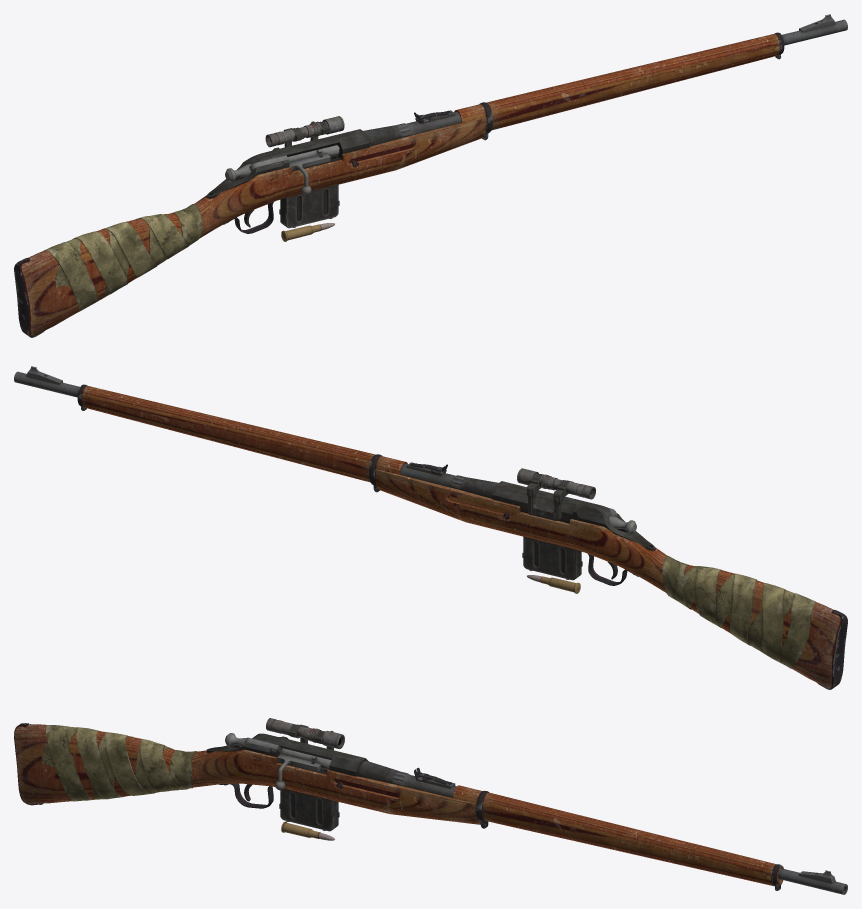
The model's file is bolt_action_rifle_7_62.glb.
3 renders of one model, top to bottom at view 1: azimuth 30°, elevation 25°; view 2: azimuth 150°, elevation 25°; view 3: azimuth 330°, elevation 25°, orthographic.
Visible parts, largest first — view 1: bolt_action_rifle_7_62, bolt_action_rifle_7_62_wrap, bolt_action_rifle_7_62_scope, bolt_action_rifle_7_62_bolt_a; view 2: bolt_action_rifle_7_62, bolt_action_rifle_7_62_wrap, bolt_action_rifle_7_62_scope; view 3: bolt_action_rifle_7_62, bolt_action_rifle_7_62_wrap, bolt_action_rifle_7_62_scope, bolt_action_rifle_7_62_bolt_a, bolt_action_rifle_7_62_bullet_54mm, bolt_action_rifle_7_62_bolt_b.
Boxes of the visible parts, x1,y1,x2,y2 form: bolt_action_rifle_7_62: [14, 14, 847, 337]; bolt_action_rifle_7_62_wrap: [44, 203, 202, 311]; bolt_action_rifle_7_62_scope: [265, 116, 344, 147]; bolt_action_rifle_7_62_bolt_a: [287, 145, 339, 194]; bolt_action_rifle_7_62: [14, 366, 847, 689]; bolt_action_rifle_7_62_wrap: [662, 556, 815, 668]; bolt_action_rifle_7_62_scope: [517, 468, 595, 520]; bolt_action_rifle_7_62: [14, 723, 847, 894]; bolt_action_rifle_7_62_wrap: [42, 725, 197, 801]; bolt_action_rifle_7_62_scope: [266, 718, 344, 750]; bolt_action_rifle_7_62_bolt_a: [275, 748, 331, 790]; bolt_action_rifle_7_62_bullet_54mm: [281, 821, 334, 840]; bolt_action_rifle_7_62_bolt_b: [225, 733, 324, 770].
Size of the model in its own units: 1.23 by 0.2045 by 0.0666.
Materials: 3 (3 with a texture image).
